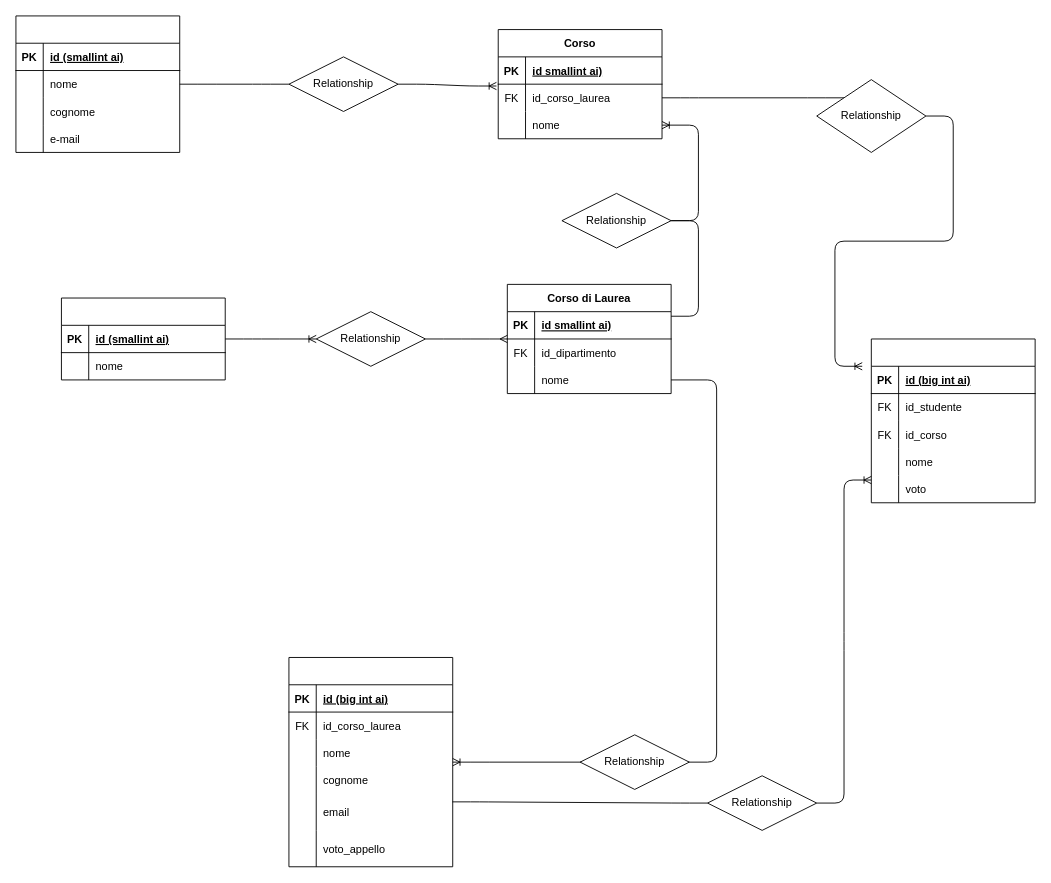
This 1051x883 diagram has some shape labels left out. The box of each missing label's shape, as (x1, y1, x2, y2) in pixels:
dipartimento: (61, 297, 225, 380)
Esame: (870, 338, 1035, 503)
Insegnanti: (15, 15, 180, 152)
Studente: (288, 657, 453, 867)
